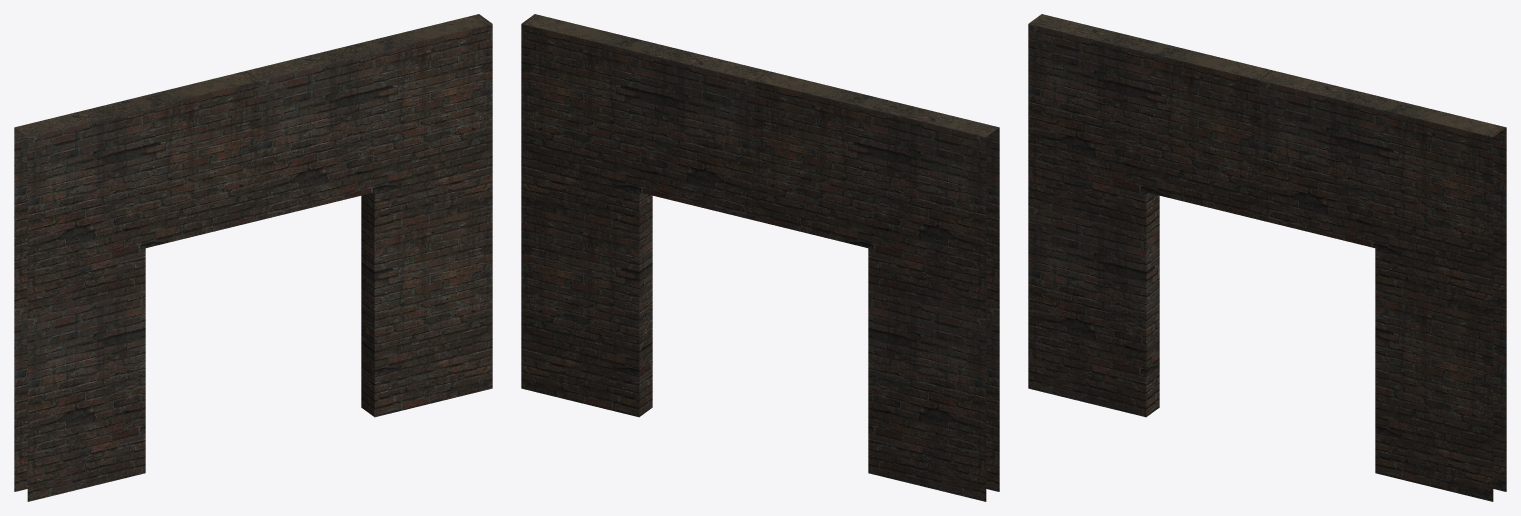
File: garage_door_frame_hs_1.glb
3 renders of one model, left to right at view 1: azimuth 30°, elevation 25°; view 2: azimuth 150°, elevation 25°; view 3: azimuth 330°, elevation 25°, orthographic.
Parts seen in each view (by area): view 1: garage_door_frame_hs_1; view 2: garage_door_frame_hs_1; view 3: garage_door_frame_hs_1.
Boxes of the visible parts, x1=… form: garage_door_frame_hs_1: x1=14, y1=14, x2=492, y2=501; garage_door_frame_hs_1: x1=521, y1=14, x2=999, y2=501; garage_door_frame_hs_1: x1=1028, y1=14, x2=1506, y2=501.
Bounding box in the file's own units: 8 × 6 × 0.4.
Materials: 2 (2 with a texture image).
